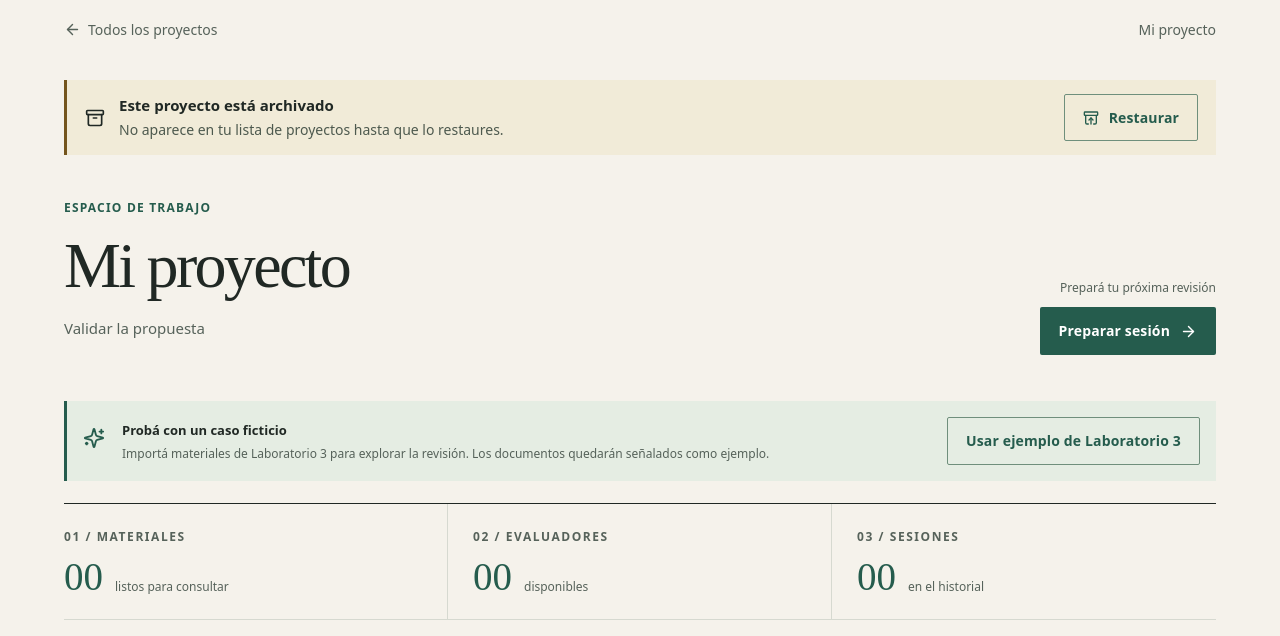
Test: espacio de trabajo: archivar y restaurar › un proyecto archivado abierto por URL muestra un aviso con "Restaurar"
Check: the text "Este proyecto está archivado" is shown, box [119, 95, 334, 115]
Check: the button "Archivar proyecto" is not shown
Click the button "Restaurar". click: {"x": 1131, "y": 118}
box: [1064, 94, 1198, 141]
(page scrolled)
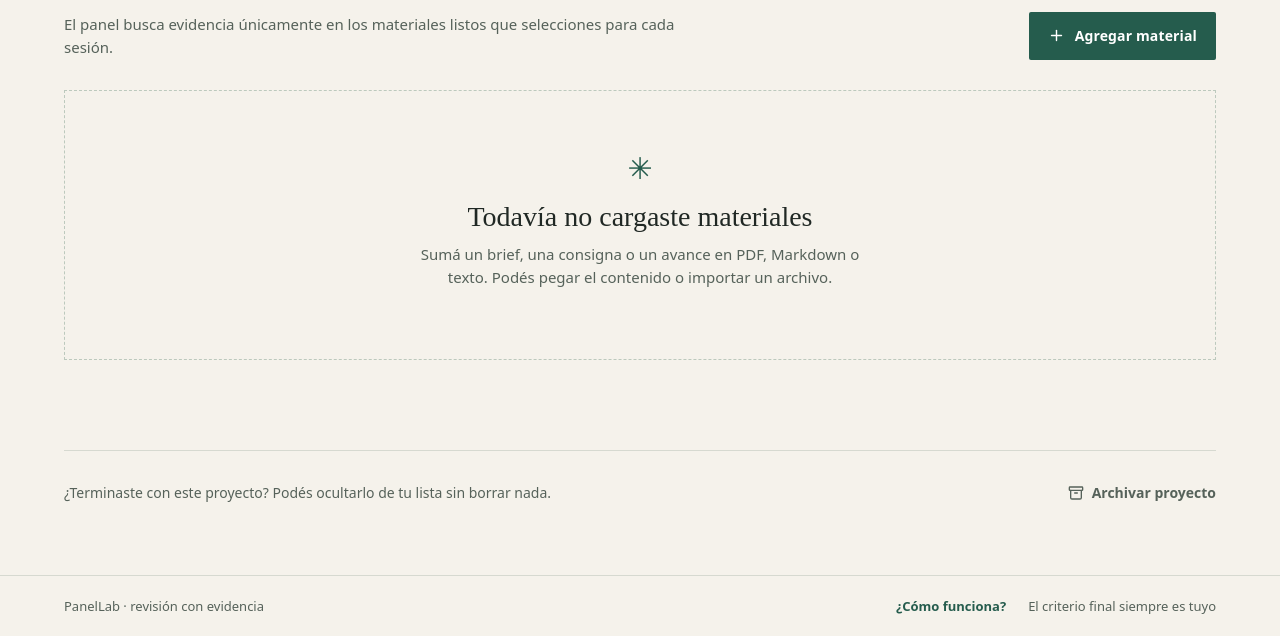
Check: the text "Este proyecto está archivado" is gone
Check: the button "Archivar proyecto" is shown, box [1068, 471, 1216, 515]
